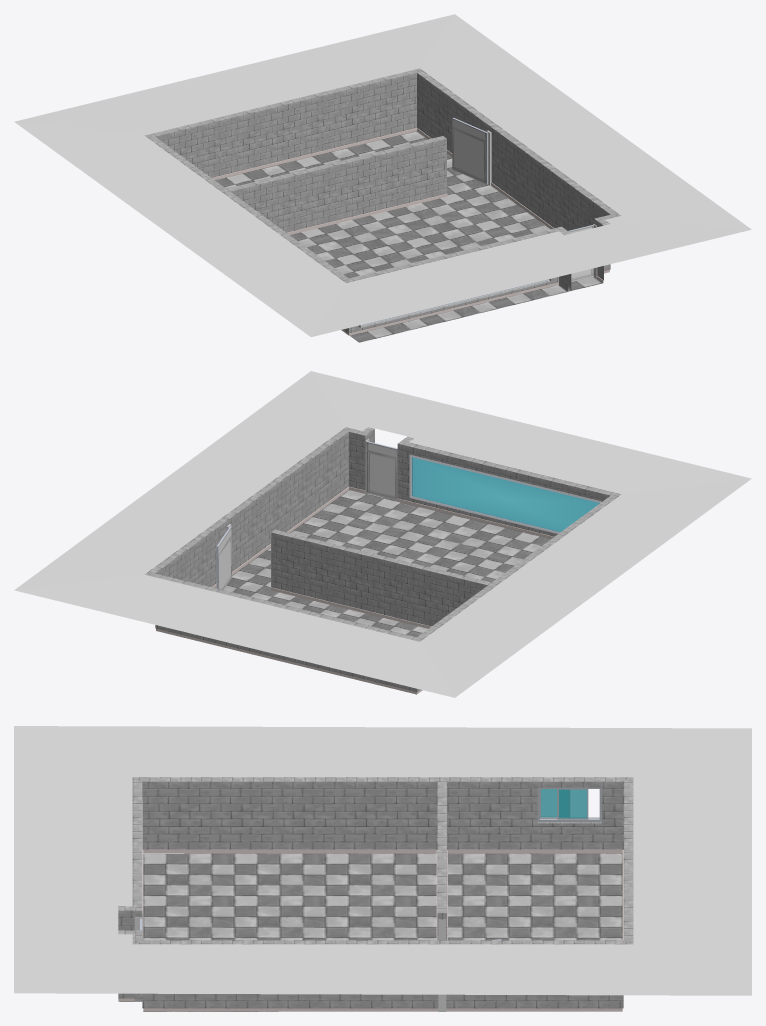
Rendered from Reposteria.FBX.
3 views of the same model, one above another, from view 1: azimuth 30°, elevation 25°; view 2: azimuth 150°, elevation 25°; view 3: azimuth 270°, elevation 25° (orthographic). The views are drawn at different scales.
Visible parts, largest first — view 1: Vacio, Paredes, Piso, Puerta-2; view 2: Vacio, Paredes, Piso, Ventana, Puerta, Puerta-2; view 3: Vacio, Paredes, Piso, Ventana.
Part boxes in pixels (box(x1,y1,x2,y2)): Vacio: box(14, 14, 751, 336); Paredes: box(144, 68, 621, 335); Piso: box(215, 131, 602, 342); Puerta-2: box(452, 117, 488, 184); Vacio: box(14, 371, 751, 697); Paredes: box(145, 427, 620, 694); Piso: box(215, 490, 550, 636); Ventana: box(409, 454, 601, 533); Puerta: box(366, 441, 396, 500); Puerta-2: box(216, 526, 231, 589); Vacio: box(14, 726, 751, 995); Paredes: box(118, 777, 633, 1011); Piso: box(119, 853, 622, 1011); Ventana: box(142, 787, 601, 939).
Bounding box in the file's own units: 2400 × 2800 × 306.
